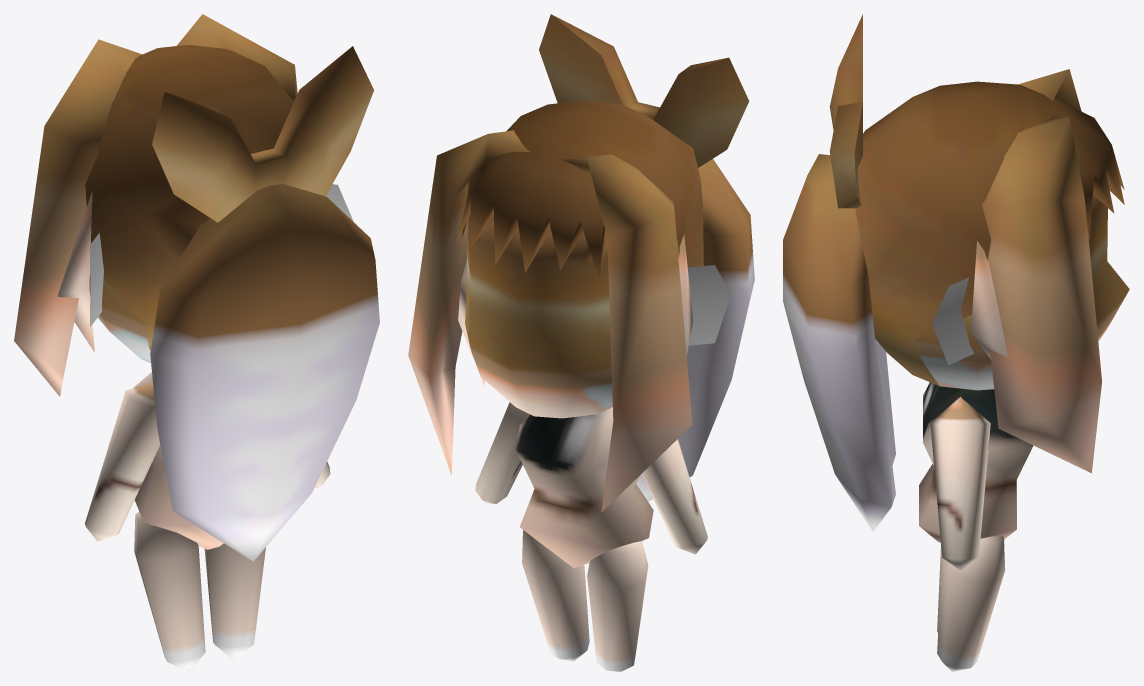
Rendered from view.ico.obj.
The picture shows the model from 3 angles, left to right: view 1: azimuth 30°, elevation 25°; view 2: azimuth 150°, elevation 25°; view 3: azimuth 270°, elevation 25°; orthographic projection. The views are drawn at different scales.
Size of the model in its own units: 2.16 by 4.34 by 2.26.
